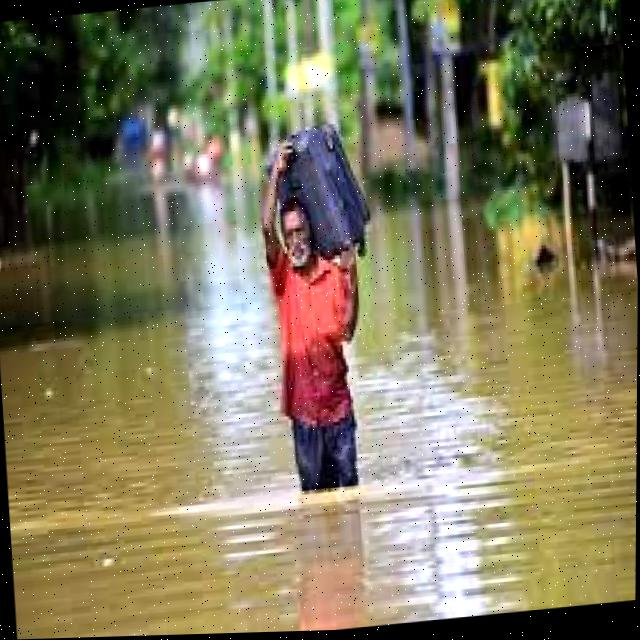civilian: (244, 123, 390, 513)
